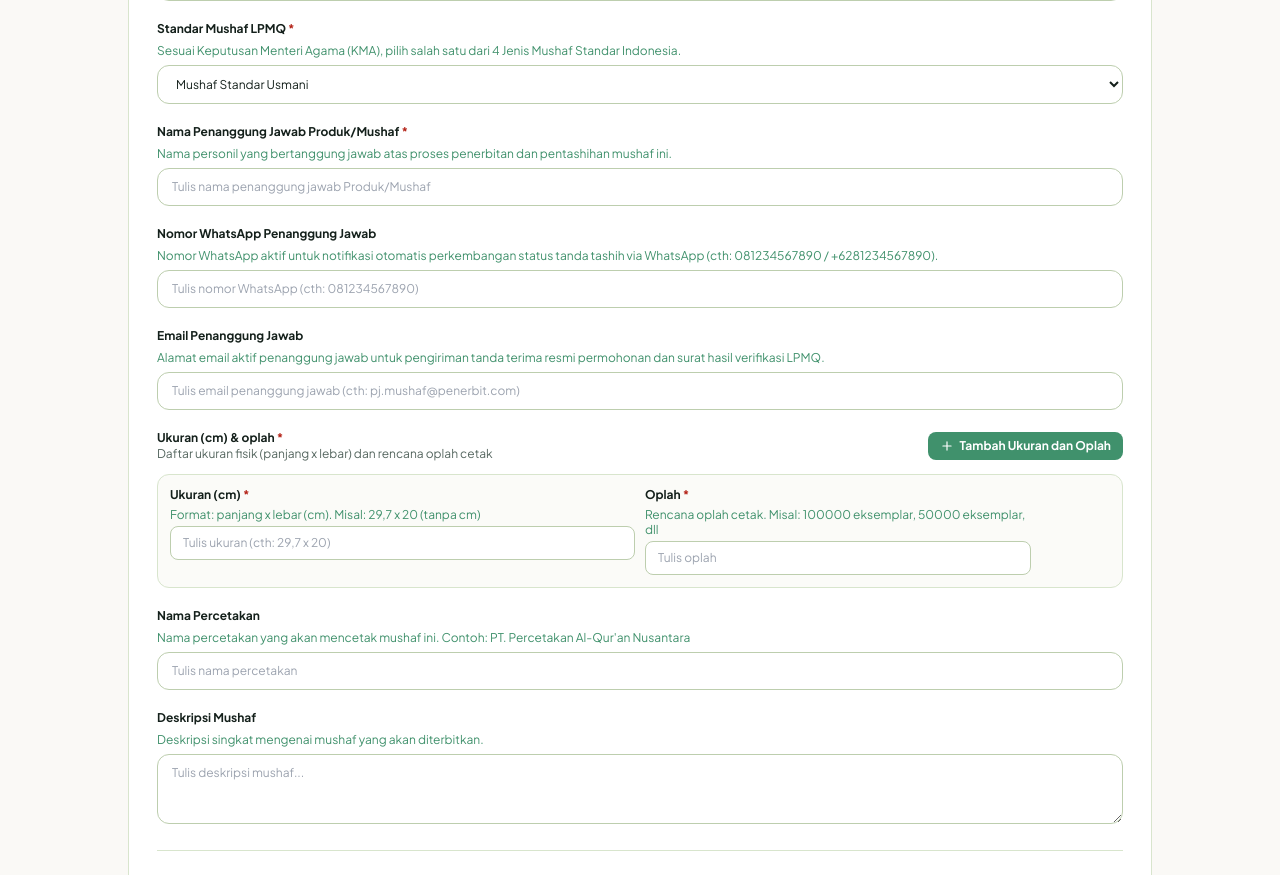
Test: Publisher new registration handoff › removes an added ukuran dan oplah row while keeping the required first row
(page scrolled)
Check: the number of number fields with placeholder "Tulis oplah" is 1, box [645, 541, 1031, 575]
Click the button "Tambah Ukuran dan Oplah": (1025, 446) [928, 432, 1123, 460]
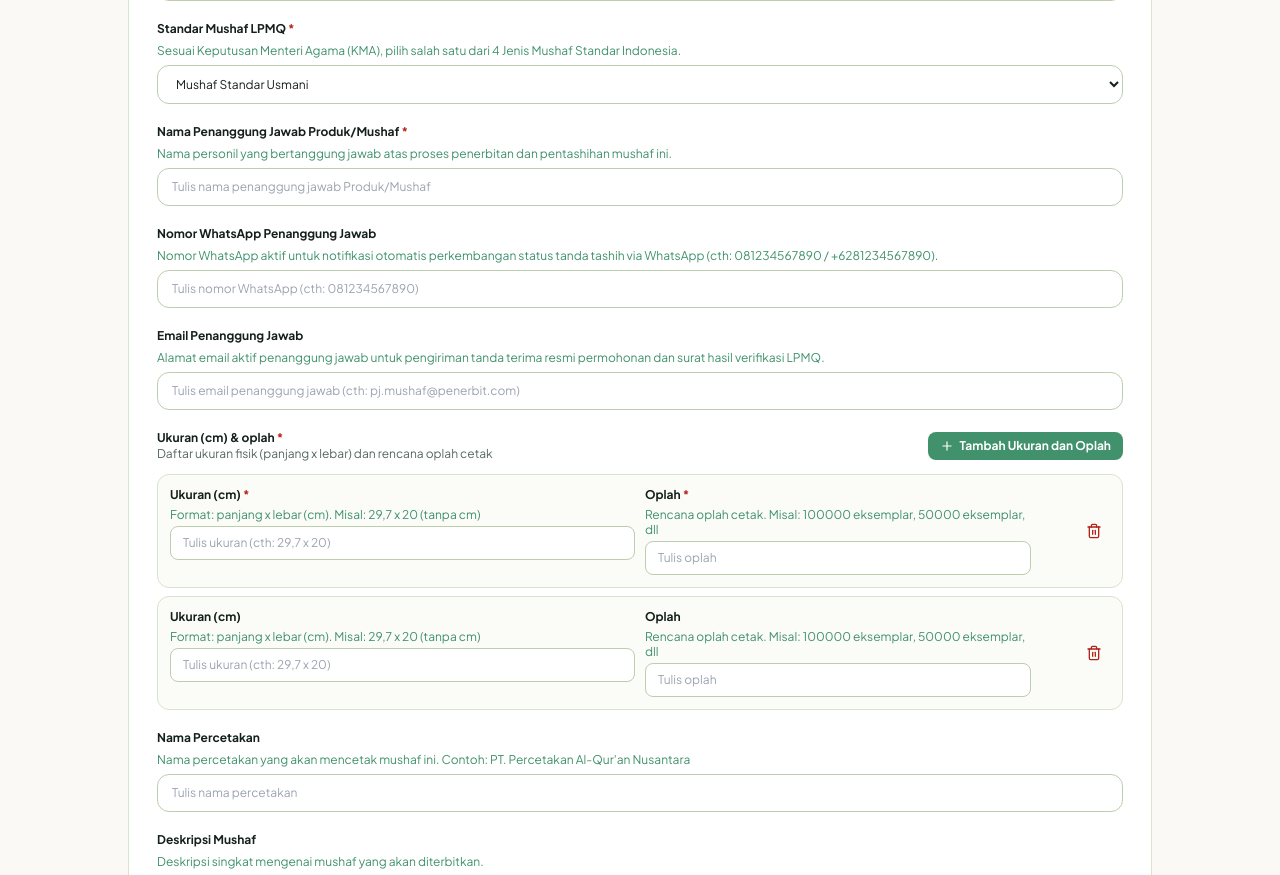
Check: the number of number fields with placeholder "Tulis oplah" is 2, box [645, 541, 1031, 575]; [645, 663, 1031, 697]
Click the 2nd button titled "Hapus baris ini": (1094, 653) [1078, 637, 1110, 669]
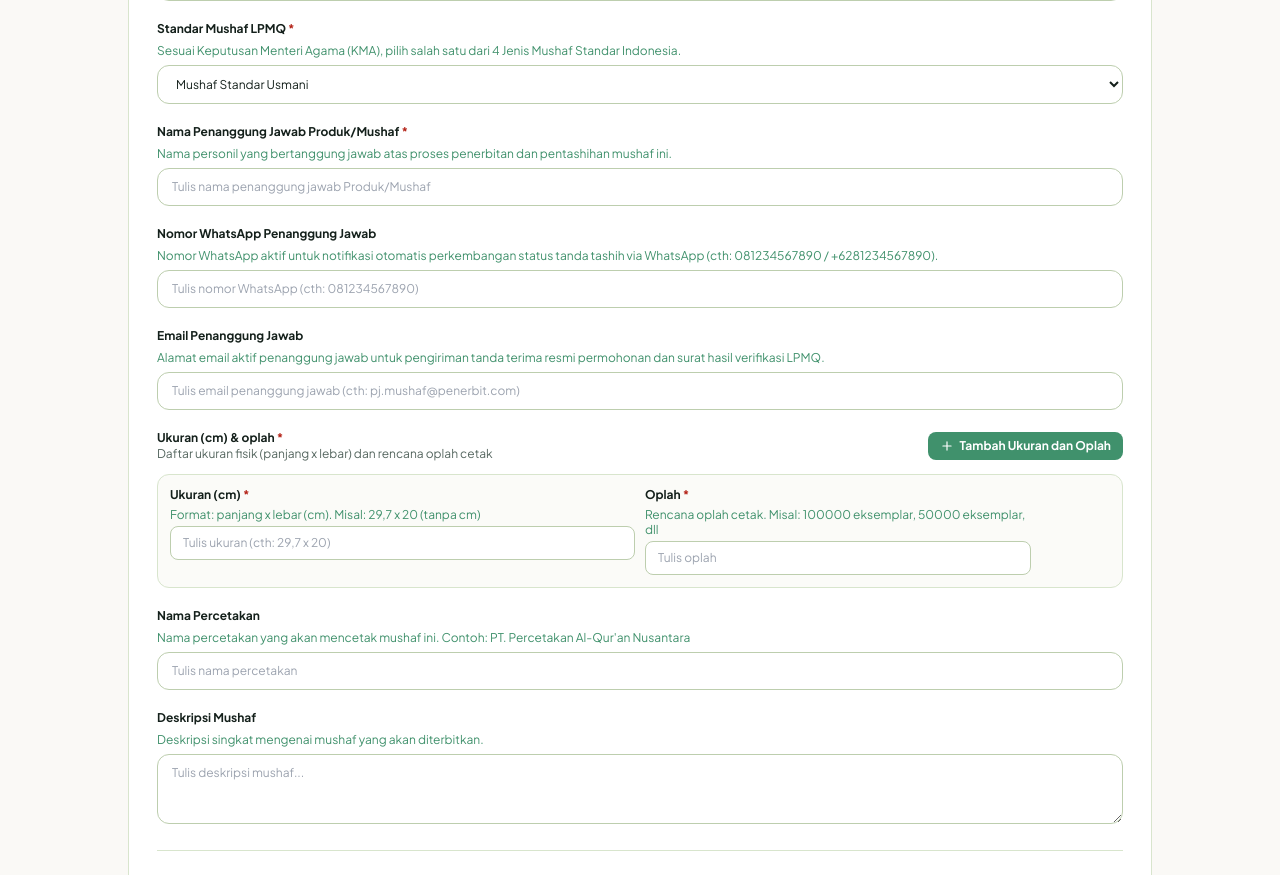
Check: the number of number fields with placeholder "Tulis oplah" is 1, box [645, 541, 1031, 575]
